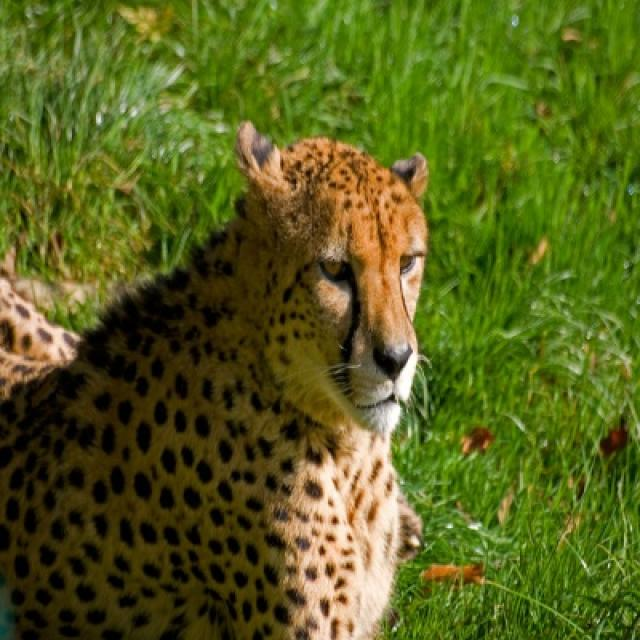Cheetah: (0, 122, 429, 638)
